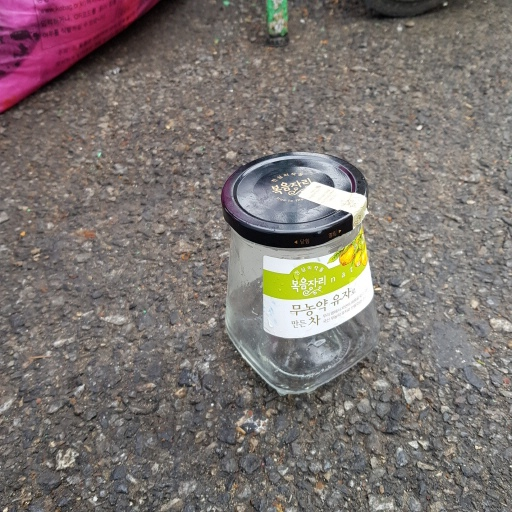Glass_5: (211, 145, 384, 399)
